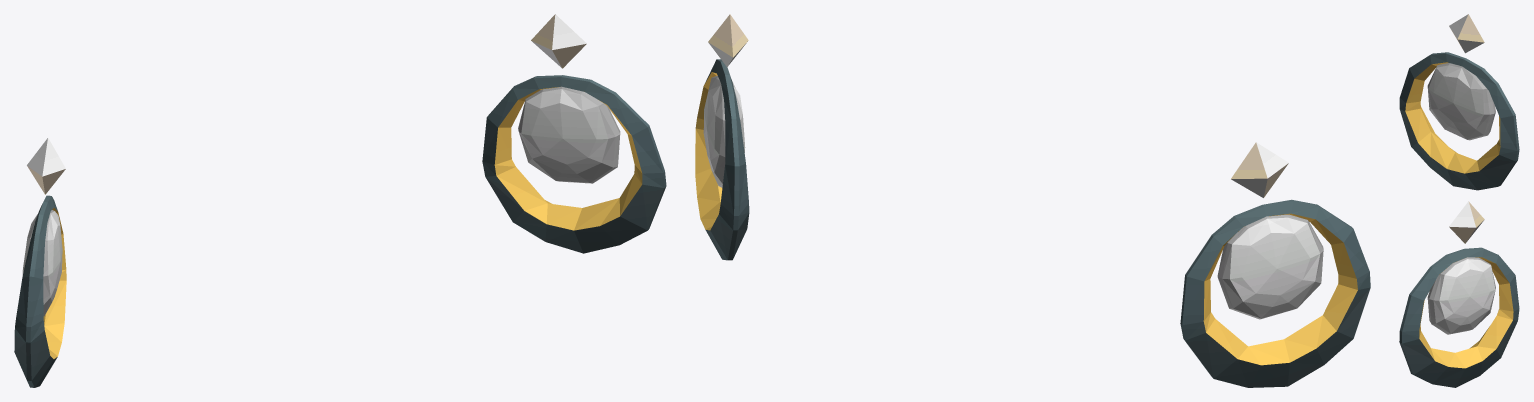
File: CharSkyKid_Horn_MoonEarring.glb
3 renders of one model, left to right at view 1: azimuth 30°, elevation 25°; view 2: azimuth 150°, elevation 25°; view 3: azimuth 270°, elevation 25°, orthographic. The views are drawn at different scales.
Parts seen in each view (by area): view 1: CharSkyKid_Horn_MoonEarring; view 2: CharSkyKid_Horn_MoonEarring; view 3: CharSkyKid_Horn_MoonEarring.
Part boxes in pixels (x1=…): CharSkyKid_Horn_MoonEarring: x1=14, y1=14, x2=666, y2=387; CharSkyKid_Horn_MoonEarring: x1=695, y1=14, x2=1370, y2=387; CharSkyKid_Horn_MoonEarring: x1=1399, y1=14, x2=1519, y2=387.
Bounding box in the file's own units: 2.51 × 0.8869 × 0.5394.
Materials: 1 (1 with a texture image).
